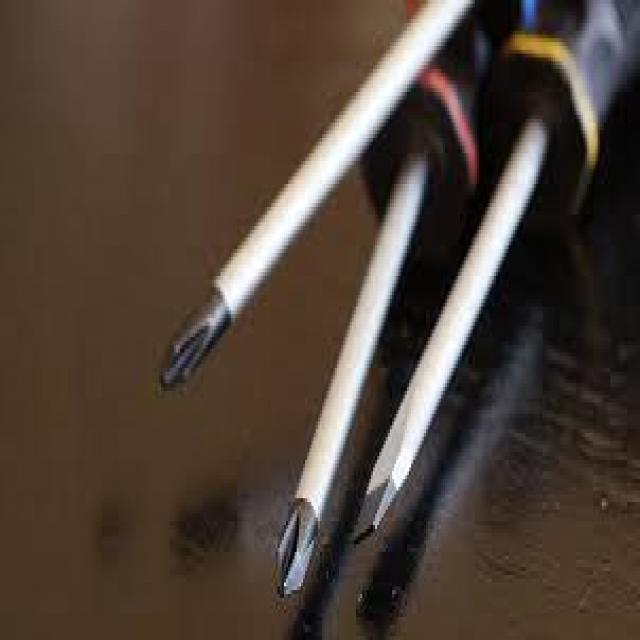screwdriver: (234, 0, 526, 596), (362, 0, 640, 537), (140, 0, 492, 415)
